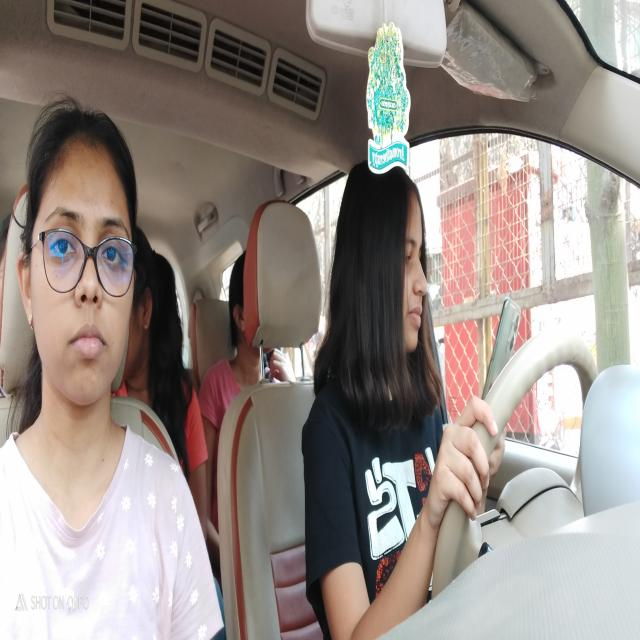mobile: (477, 279, 520, 406)
person: (26, 108, 139, 403), (330, 152, 434, 374), (129, 236, 162, 380), (227, 256, 247, 341)
